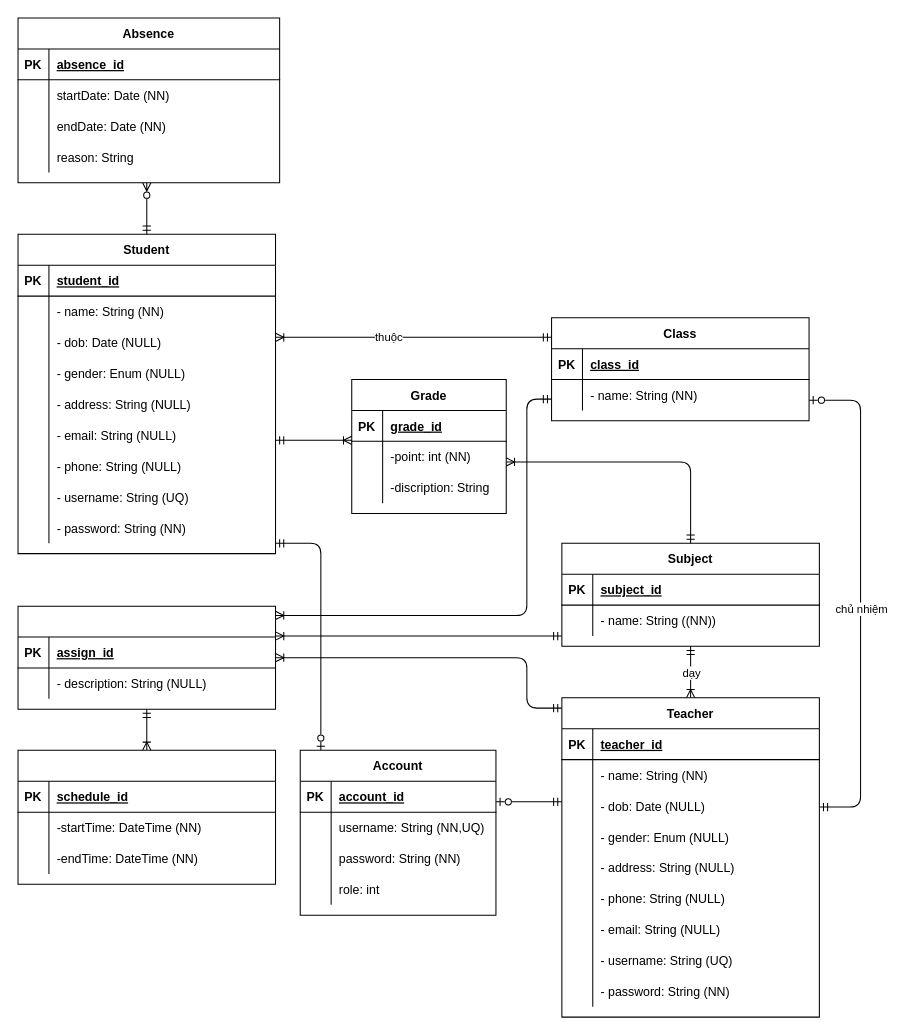
Some shapes in this 905 by 1035 pixel diagram are drawn without their labels. The shapes that lost their labels are listed below. From the top down, each one's box as (x1, y1, x2, y2) in pixels, then its label:
(17, 605, 276, 709): Assign (phân công giảng dạy)
(17, 749, 276, 884): Schedule (lịch dạy)
